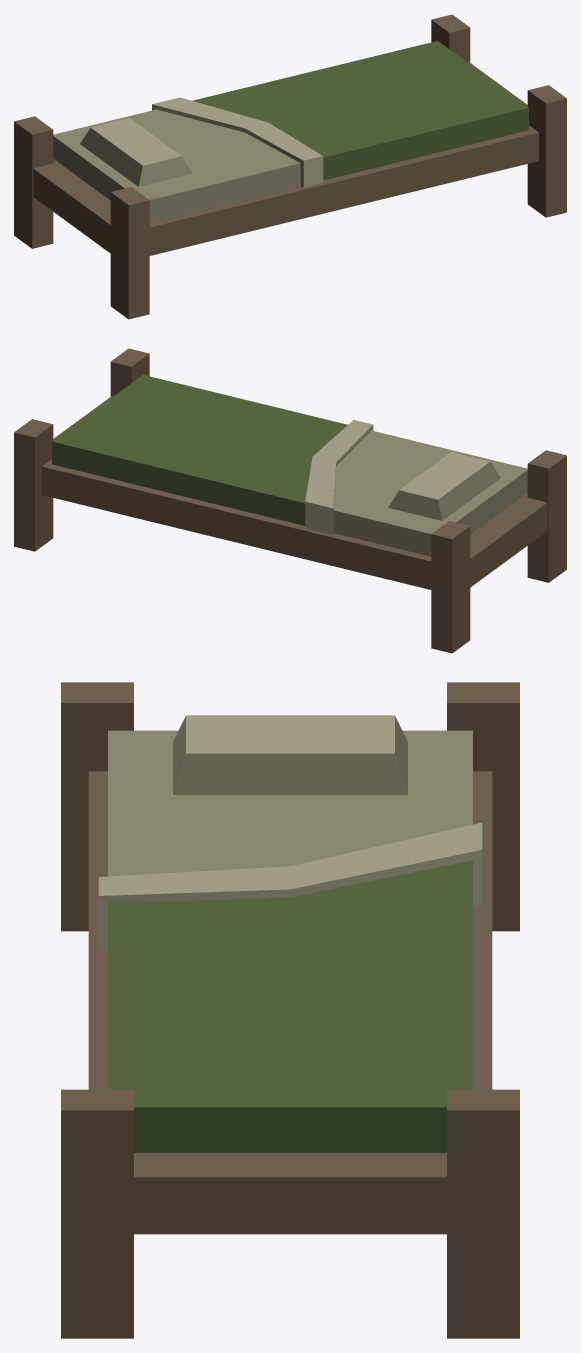
Rendered from SD_Prop_Bed_02.fbx.
3 renders of one model, top to bottom at view 1: azimuth 30°, elevation 25°; view 2: azimuth 150°, elevation 25°; view 3: azimuth 270°, elevation 25°, orthographic. The views are drawn at different scales.
Parts seen in each view (by area): view 1: SD_Prop_Bed_02; view 2: SD_Prop_Bed_02; view 3: SD_Prop_Bed_02.
Part boxes in pixels (x1,y1,x2,y2): SD_Prop_Bed_02: [14, 14, 566, 319]; SD_Prop_Bed_02: [14, 348, 566, 653]; SD_Prop_Bed_02: [61, 682, 519, 1338].
Bounding box in the file's own units: 3.35 × 0.8759 × 1.52.
